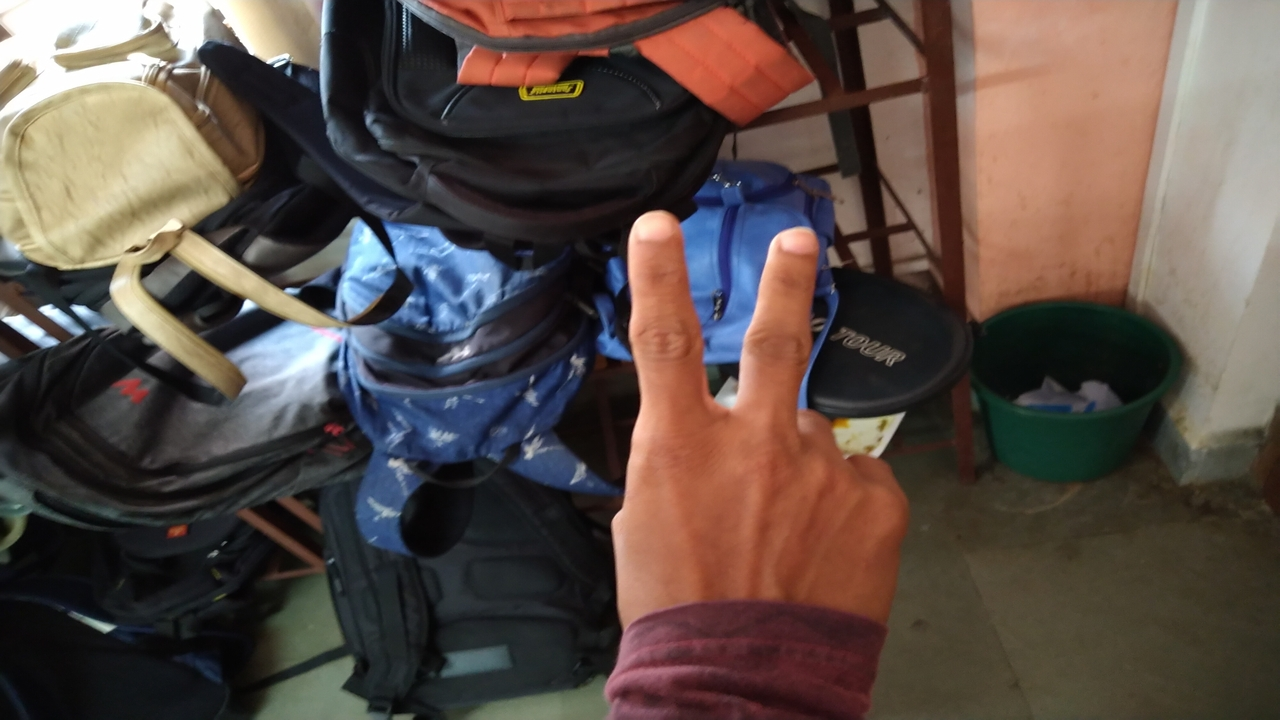fingertip: (760, 216, 826, 284), (622, 200, 686, 270)
